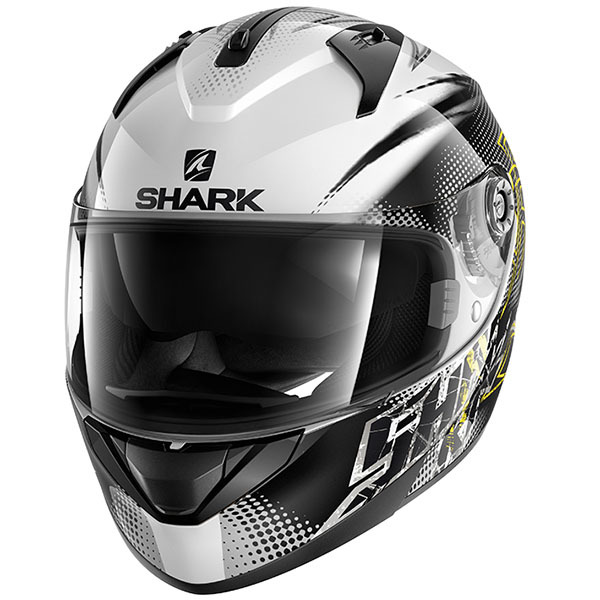with_helmet: (42, 3, 538, 598)
